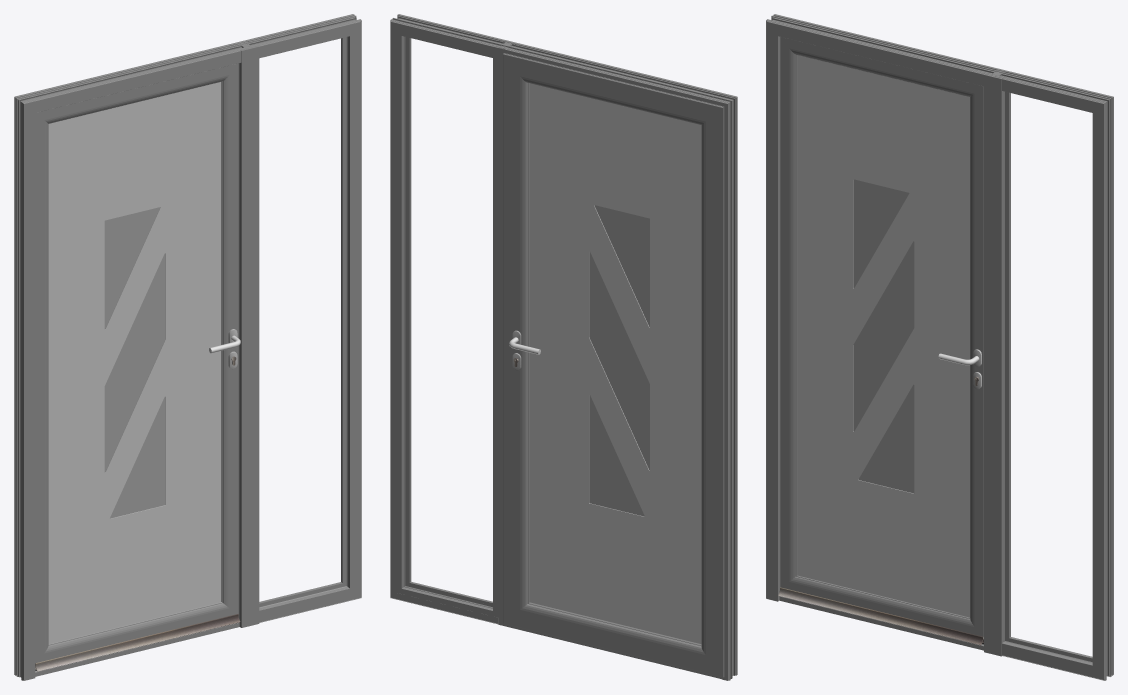
3 renders of one model, left to right at view 1: azimuth 30°, elevation 25°; view 2: azimuth 150°, elevation 25°; view 3: azimuth 330°, elevation 25°, orthographic.
Parts seen in each view (by area): view 1: fosco_34, aroFixo, aroMovel, montanteCentral, Line006, bite, borracha, escovas, rodaPe; view 2: fosco_34, aroMovel, aroFixo, Line006, bite, montanteCentral, borracha, rodaPe; view 3: fosco_34, aroFixo, aroMovel, montanteCentral, Line006, bite, escovas, borracha, rodaPe.
Part boxes in pixels (left/top/right/bottom): fosco_34: left=48, top=82, right=221, bottom=643; aroFixo: left=14, top=14, right=361, bottom=680; aroMovel: left=35, top=63, right=238, bottom=663; montanteCentral: left=238, top=42, right=259, bottom=627; Line006: left=104, top=207, right=165, bottom=518; bite: left=259, top=37, right=346, bottom=607; borracha: left=259, top=37, right=345, bottom=606; escovas: left=35, top=614, right=240, bottom=671; rodaPe: left=35, top=622, right=239, bottom=676; fosco_34: left=529, top=83, right=701, bottom=644; aroMovel: left=503, top=53, right=724, bottom=677; aroFixo: left=390, top=14, right=737, bottom=680; Line006: left=589, top=205, right=649, bottom=516; bite: left=396, top=29, right=498, bottom=617; montanteCentral: left=498, top=40, right=518, bottom=626; borracha: left=404, top=36, right=492, bottom=608; rodaPe: left=505, top=624, right=721, bottom=679; fosco_34: left=797, top=55, right=969, bottom=617; aroFixo: left=766, top=14, right=1113, bottom=680; aroMovel: left=780, top=37, right=983, bottom=638; montanteCentral: left=984, top=70, right=1004, bottom=656; Line006: left=853, top=179, right=914, bottom=493; bite: left=1005, top=91, right=1092, bottom=661; escovas: left=778, top=587, right=983, bottom=645; borracha: left=1006, top=92, right=1092, bottom=660; rodaPe: left=779, top=596, right=983, bottom=650.
Size of the model in its own units: 1320 by 2149 by 185.
Materials: 10 (4 with a texture image).
